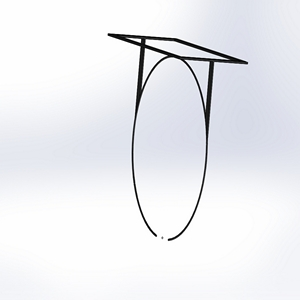circle: (105, 31, 250, 241)
